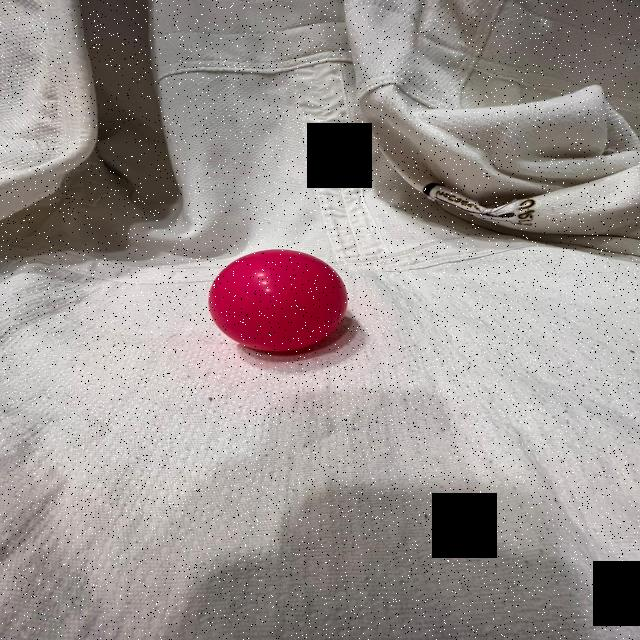ball: (204, 246, 350, 355)
